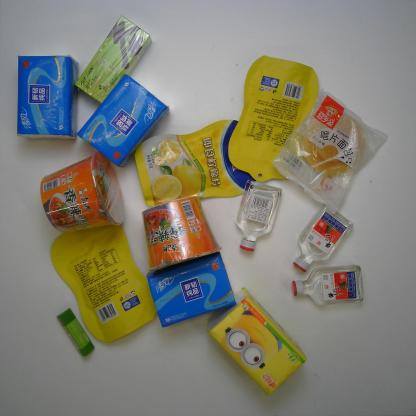Alcohol: (293, 206, 360, 270), (288, 264, 370, 315), (232, 178, 286, 254)
Dessert: (273, 89, 383, 204)
Dried Fruit: (228, 52, 328, 180), (51, 225, 157, 342), (130, 113, 249, 204)
Instant Drink: (76, 16, 158, 102)
Instant Noodles: (34, 153, 128, 236), (136, 194, 229, 276)
Stationery: (52, 306, 98, 358)
Tissue: (209, 289, 308, 395), (74, 74, 174, 166), (138, 254, 240, 328), (11, 52, 81, 141)
